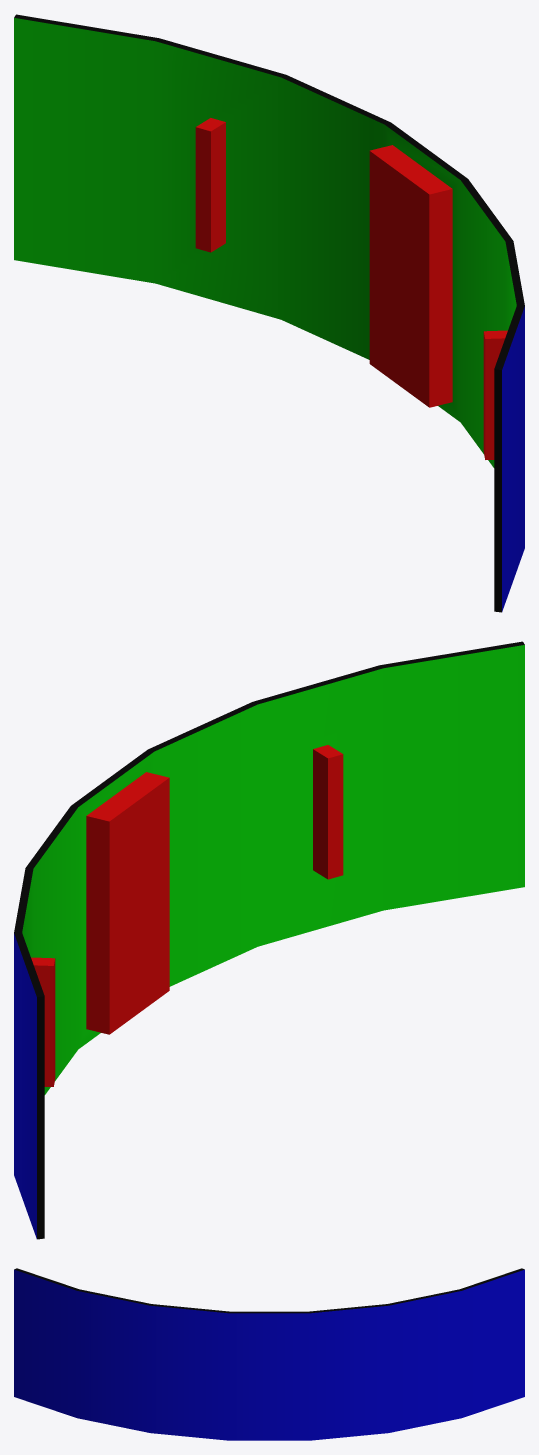
The model's file is cspmd.fbx.
3 views of the same model, one above another, from view 1: azimuth 30°, elevation 25°; view 2: azimuth 150°, elevation 25°; view 3: azimuth 270°, elevation 25° (orthographic). The views are drawn at different scales.
Visible parts, largest first — view 1: cspmd05_mesh; view 2: cspmd05_mesh; view 3: cspmd05_mesh.
Part boxes in pixels (x1=…): cspmd05_mesh: x1=14, y1=14, x2=524, y2=612; cspmd05_mesh: x1=14, y1=641, x2=524, y2=1239; cspmd05_mesh: x1=14, y1=1268, x2=524, y2=1440.
Bounding box in the file's own units: 0.3792 × 0.5 × 1.82.
